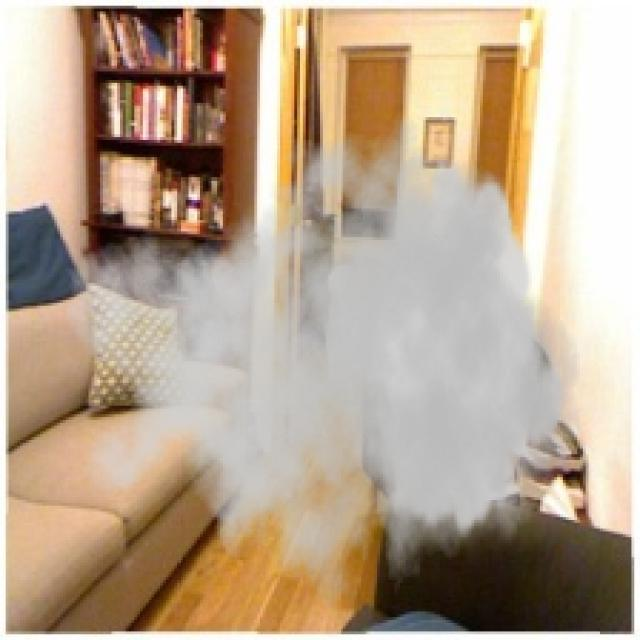Smoke: (63, 108, 583, 638)
